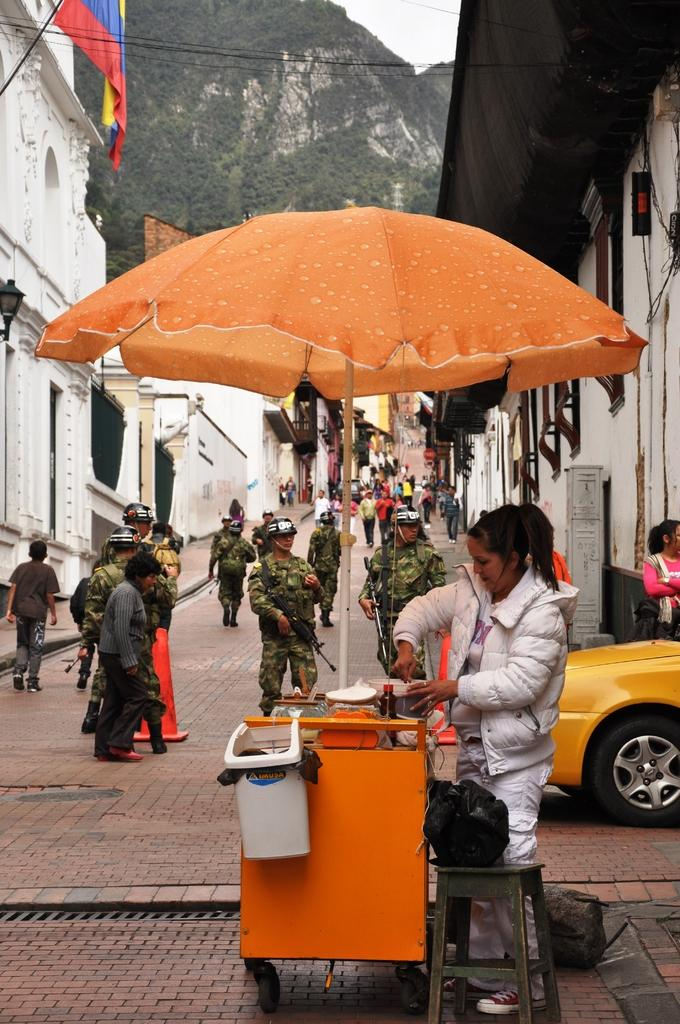umbrella: (34, 209, 648, 688)
